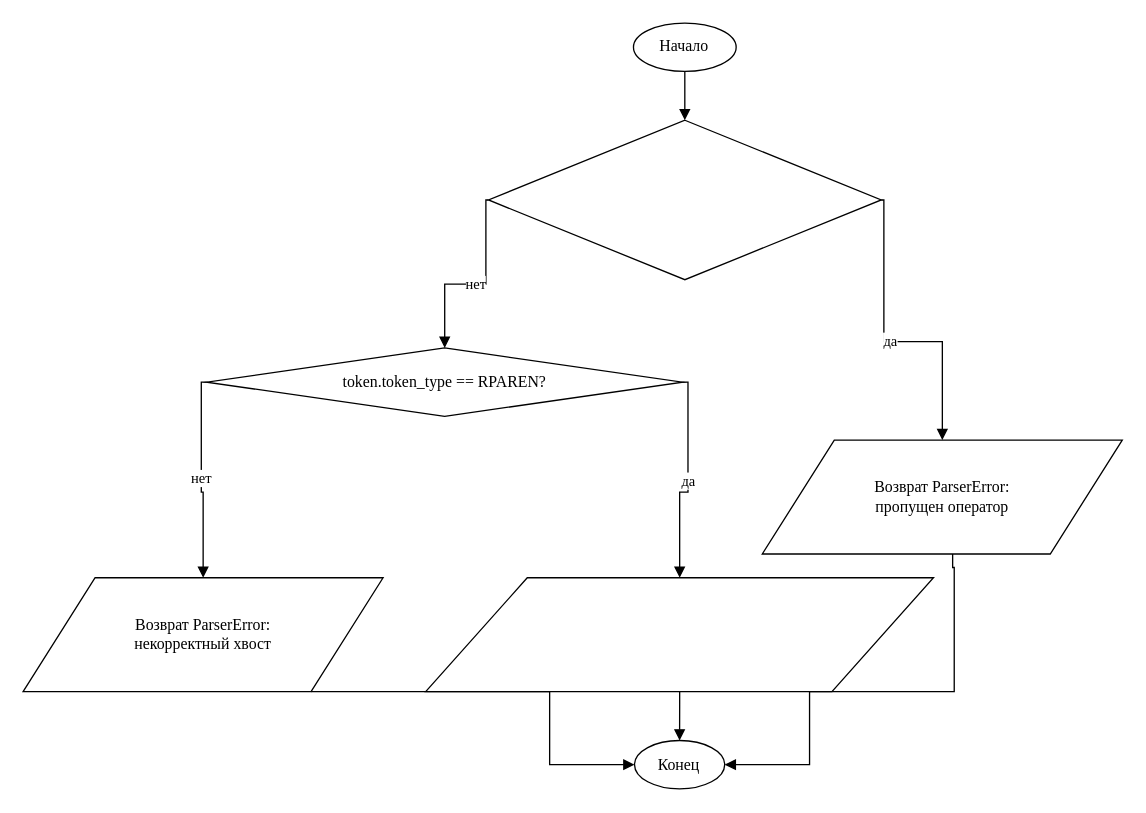
Image size: 1146x813. Some labels were removed from this diagram. The shapes that lost their labels are listed below. From the top down, each one's centre as x and y in pixels, then its label:
pixel 684 199: token.token_type в {IDENTIFIER, CONSTANT, LPAREN, NOT}?
pixel 679 634: Возврат ParserError: лишняя закрывающая скобка
